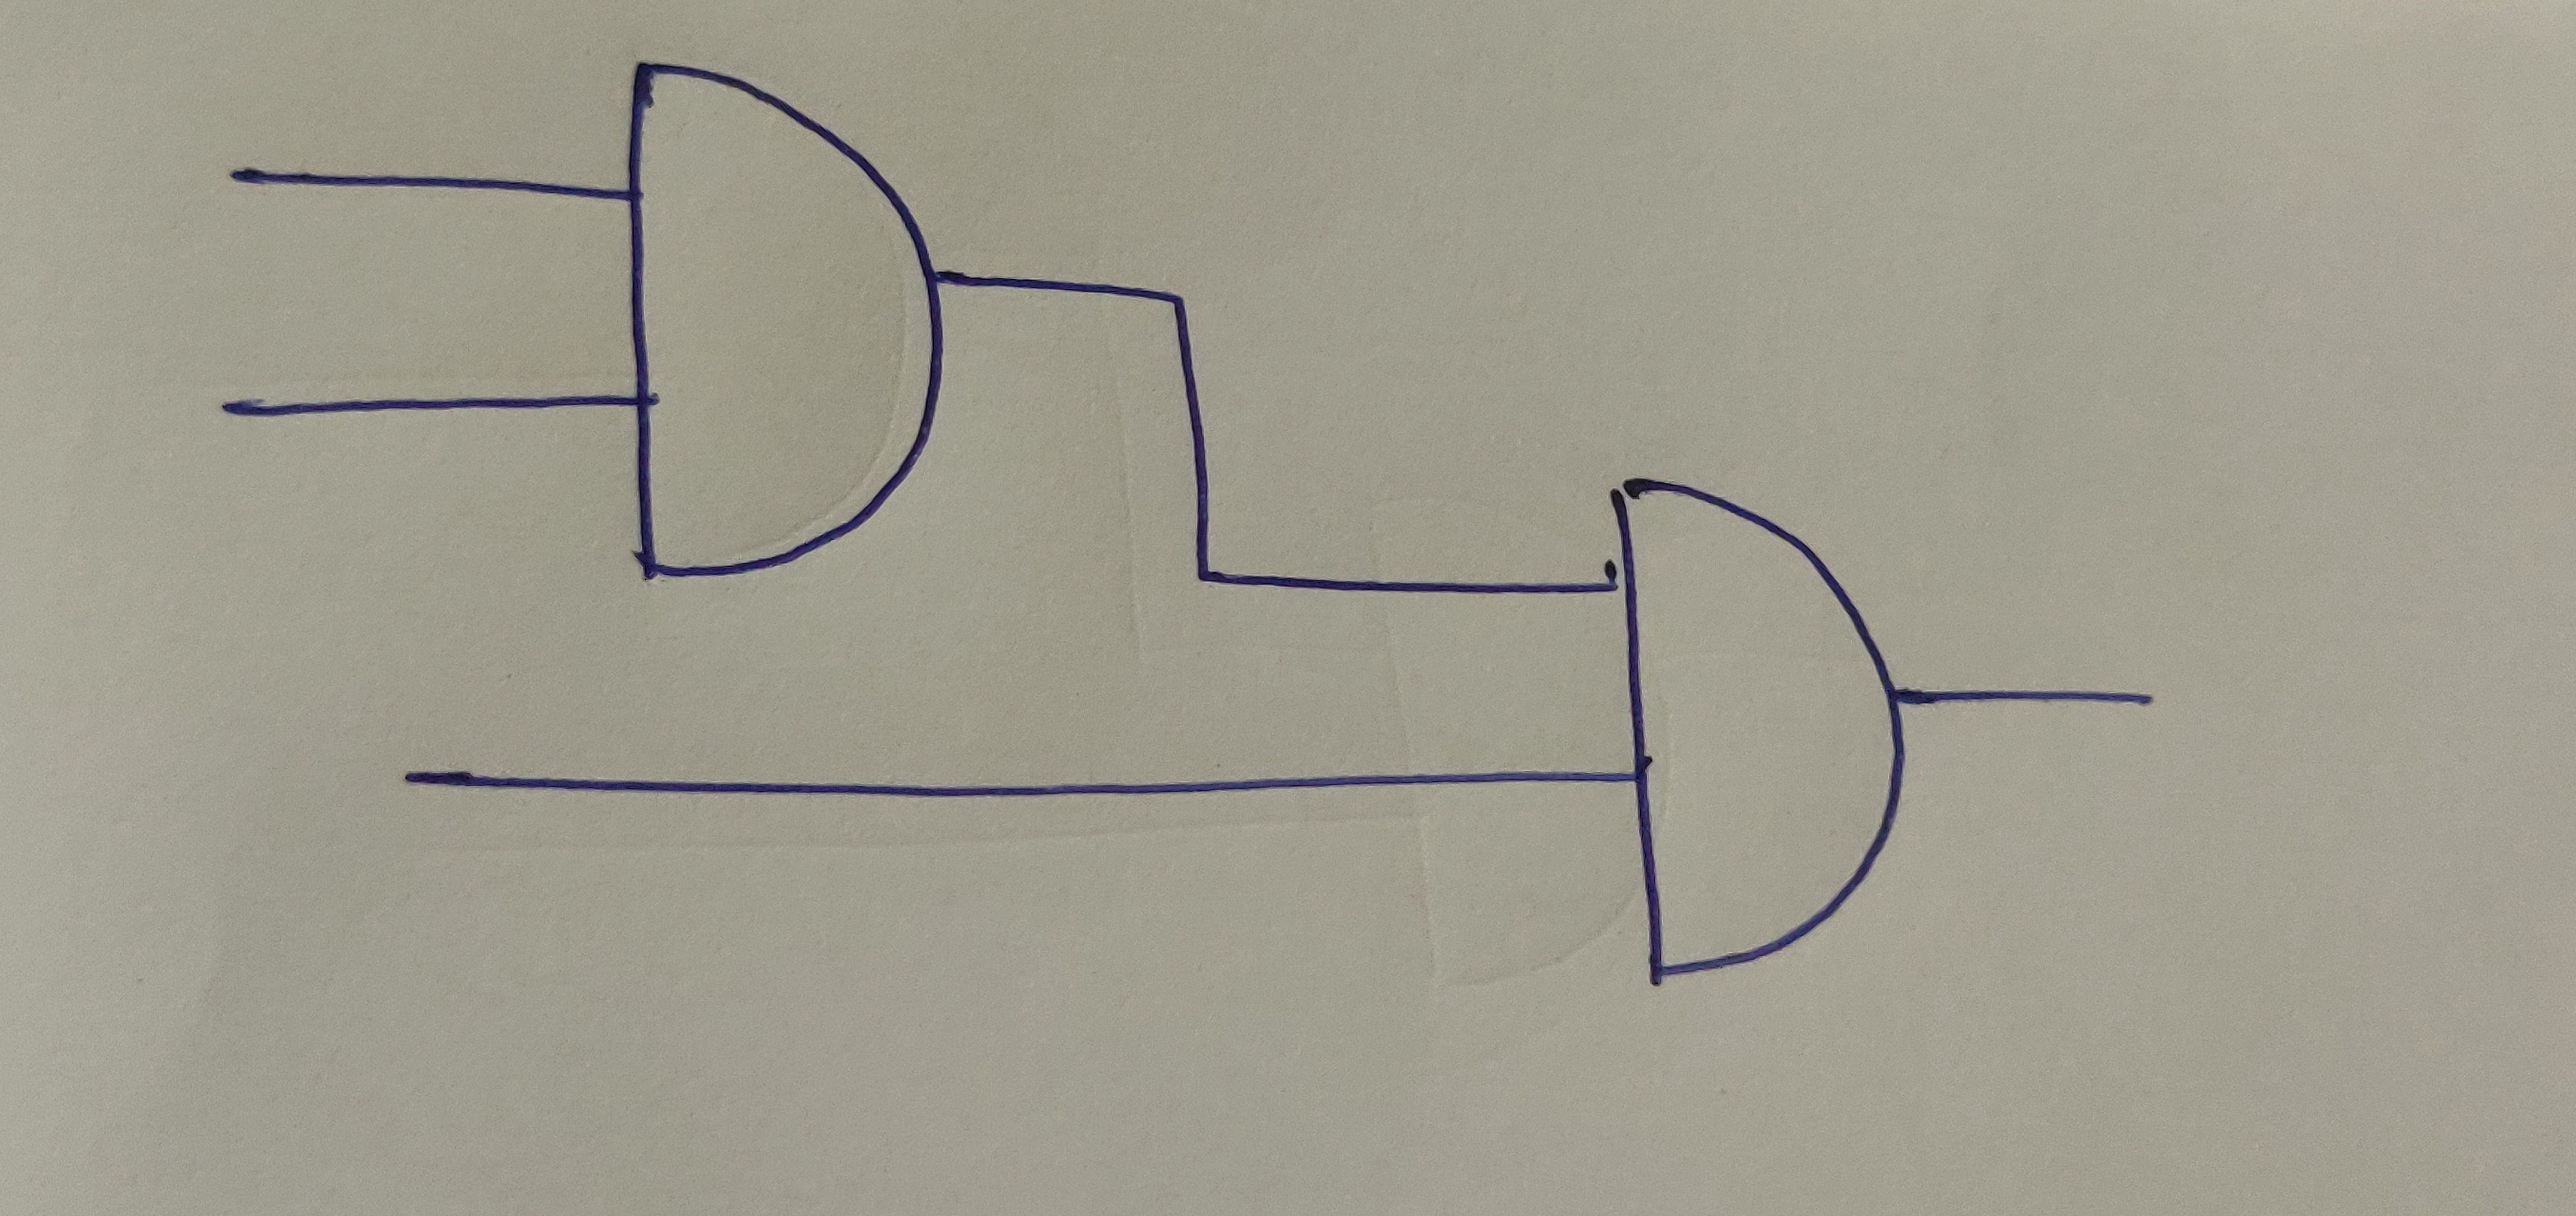and: (621, 58, 948, 585), (1613, 477, 1911, 979)
